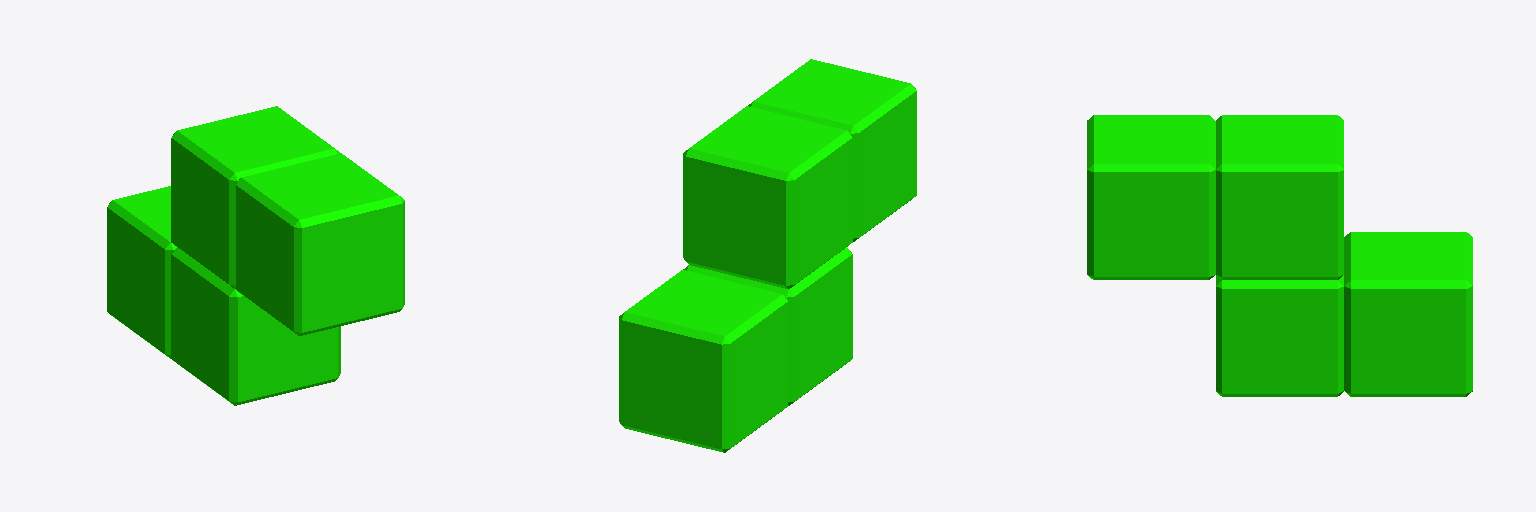
The picture shows the model from 3 angles: view 1: azimuth 30°, elevation 25°; view 2: azimuth 150°, elevation 25°; view 3: azimuth 270°, elevation 25°; orthographic projection.
Visible parts, largest first — view 1: Z-Block_Cube.013; view 2: Z-Block_Cube.013; view 3: Z-Block_Cube.013.
Boxes of the visible parts, x1=… form: Z-Block_Cube.013: x1=107, y1=106, x2=404, y2=405; Z-Block_Cube.013: x1=619, y1=59, x2=916, y2=452; Z-Block_Cube.013: x1=1087, y1=115, x2=1472, y2=396.
Size of the model in its own units: 2 by 4 by 6.
Materials: 1 (1 with a texture image).